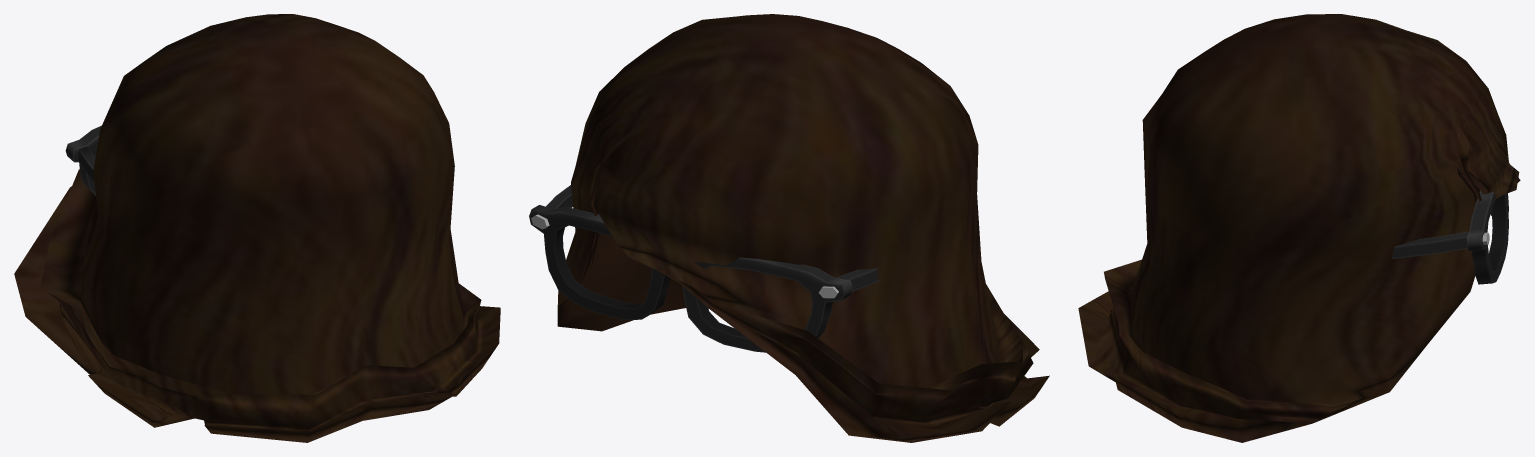
Rendered from acc.glb.
The picture shows the model from 3 angles, left to right: view 1: azimuth 30°, elevation 25°; view 2: azimuth 150°, elevation 25°; view 3: azimuth 270°, elevation 25°; orthographic projection. The views are drawn at different scales.
Visible parts, largest first — view 1: Handle.001, Handle; view 2: Handle.001, Handle; view 3: Handle.001, Handle.
Part boxes in pixels (box(x1,y1,x2,y2)): Handle.001: box(14, 14, 500, 442); Handle: box(65, 125, 101, 196); Handle.001: box(557, 14, 1049, 442); Handle: box(529, 185, 879, 352); Handle.001: box(1078, 14, 1520, 442); Handle: box(1391, 190, 1508, 284).
Size of the model in its own units: 1.67 by 1.29 by 1.58.
Materials: 2 (2 with a texture image).
